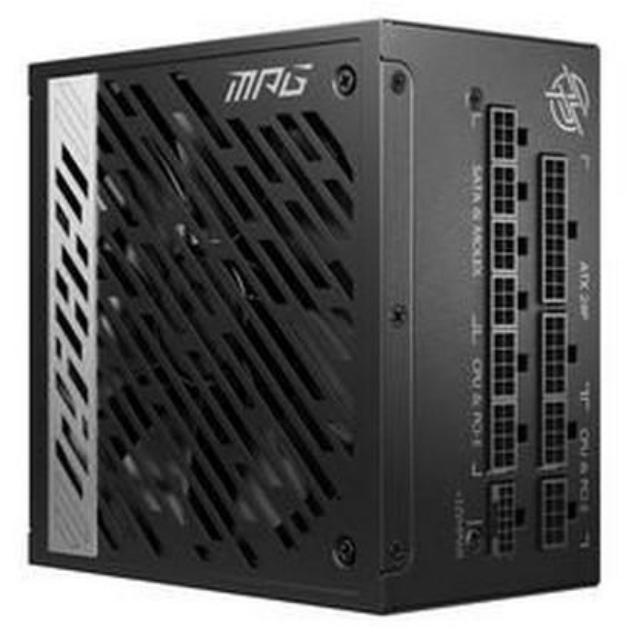PSU: (10, 13, 619, 627)
